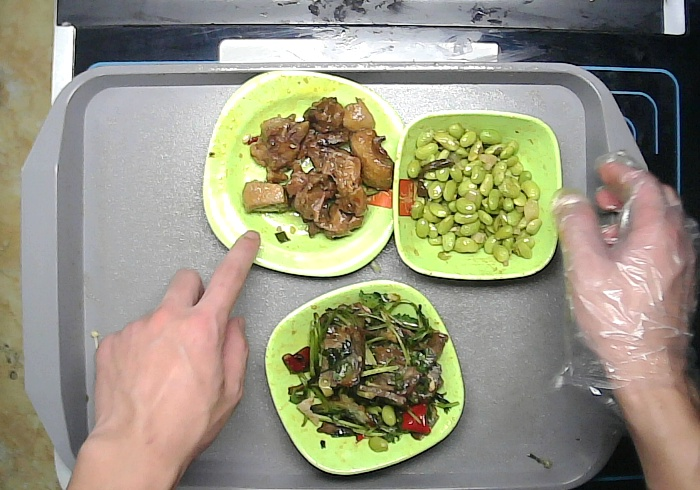SHKJ-Lv_Se_Cai_Die: (263, 276, 466, 477)
SHKJ-Lv_Se_Si_Fang_Cai_Die: (202, 66, 406, 279)
SHKJ-Lv_Se_Xiao_Fang_Die: (391, 109, 565, 279)
